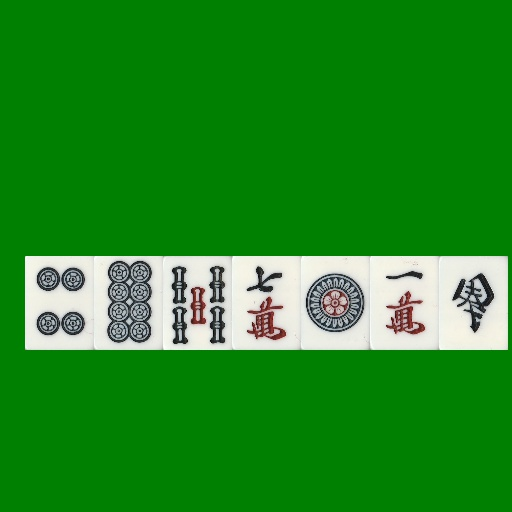1m: (370, 256, 439, 350)
1p: (301, 256, 370, 350)
4p: (25, 256, 94, 350)
5s: (163, 256, 232, 350)
7m: (232, 256, 301, 350)
8p: (94, 256, 163, 350)
south: (439, 256, 508, 350)
